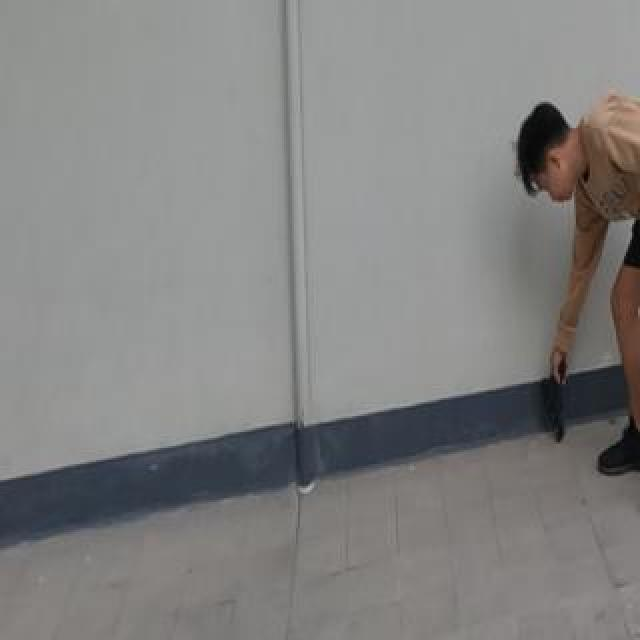Guns: (536, 363, 572, 447)
